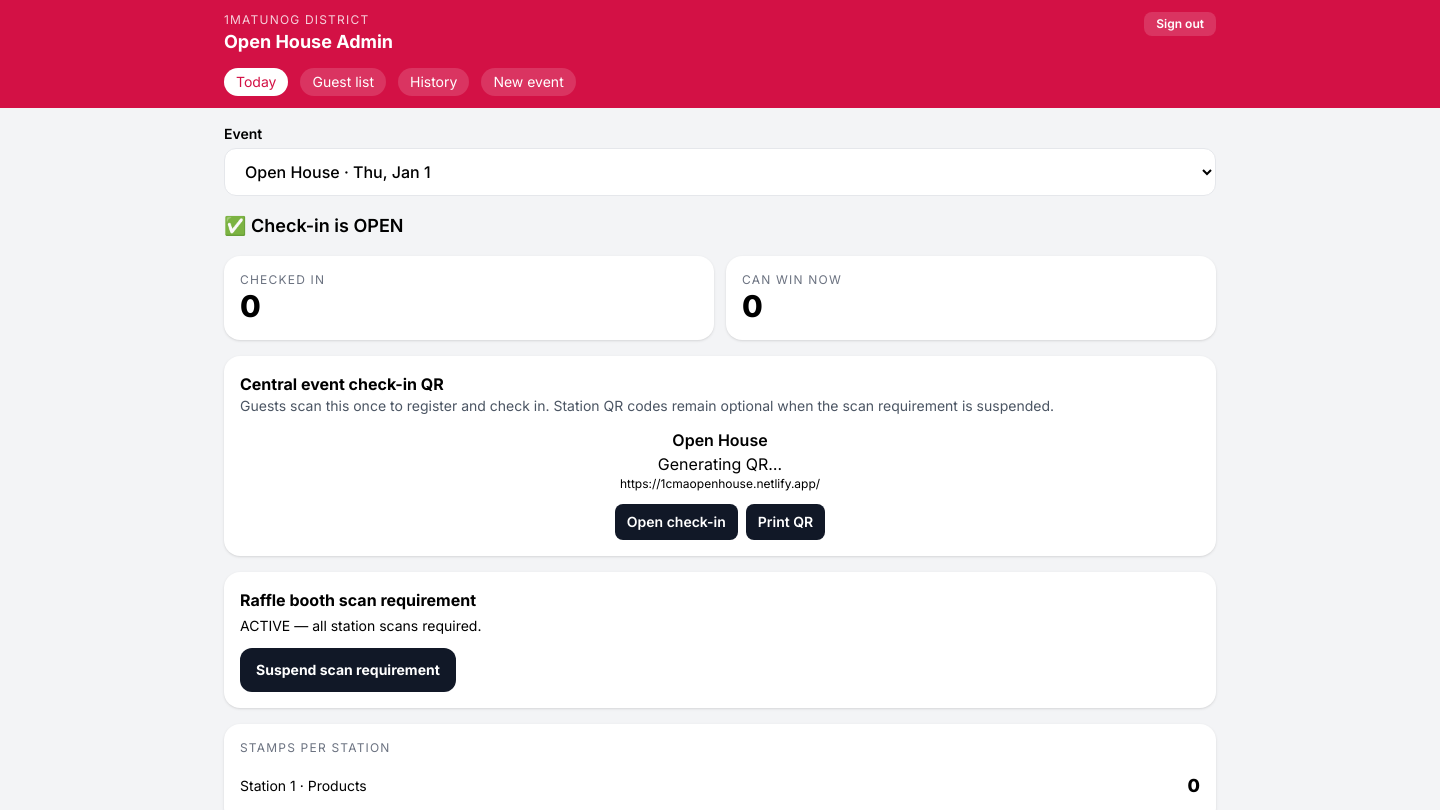
Test case: AdminApp with an empty database › shows guest-list and history empty states when the event has no rows
Click the button "Guest list" at x=343, y=82, box [300, 68, 386, 96]
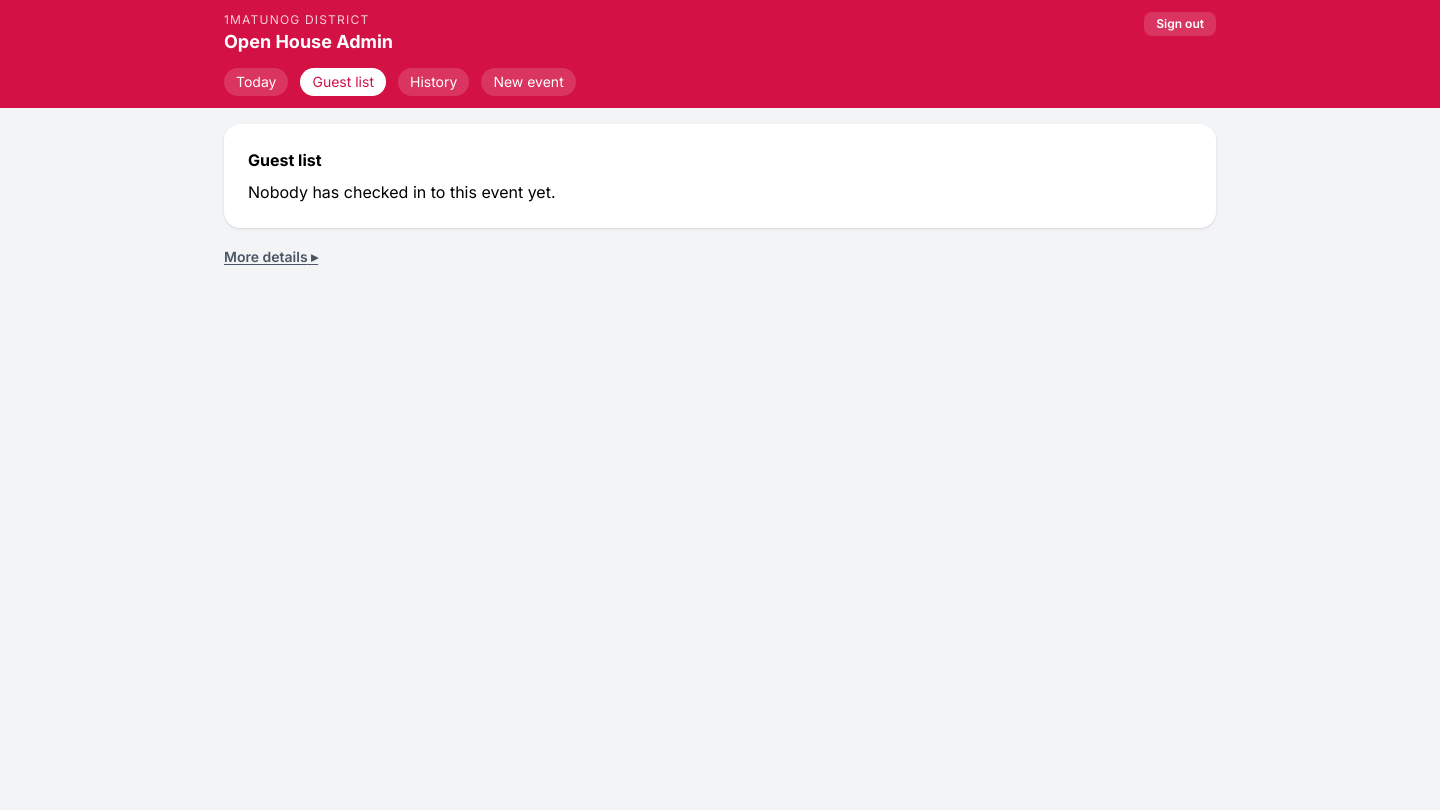
Now the text "Nobody has checked in to this event yet." is shown, box [248, 182, 556, 202]
Click the button "History" at x=434, y=82, box [398, 68, 469, 96]
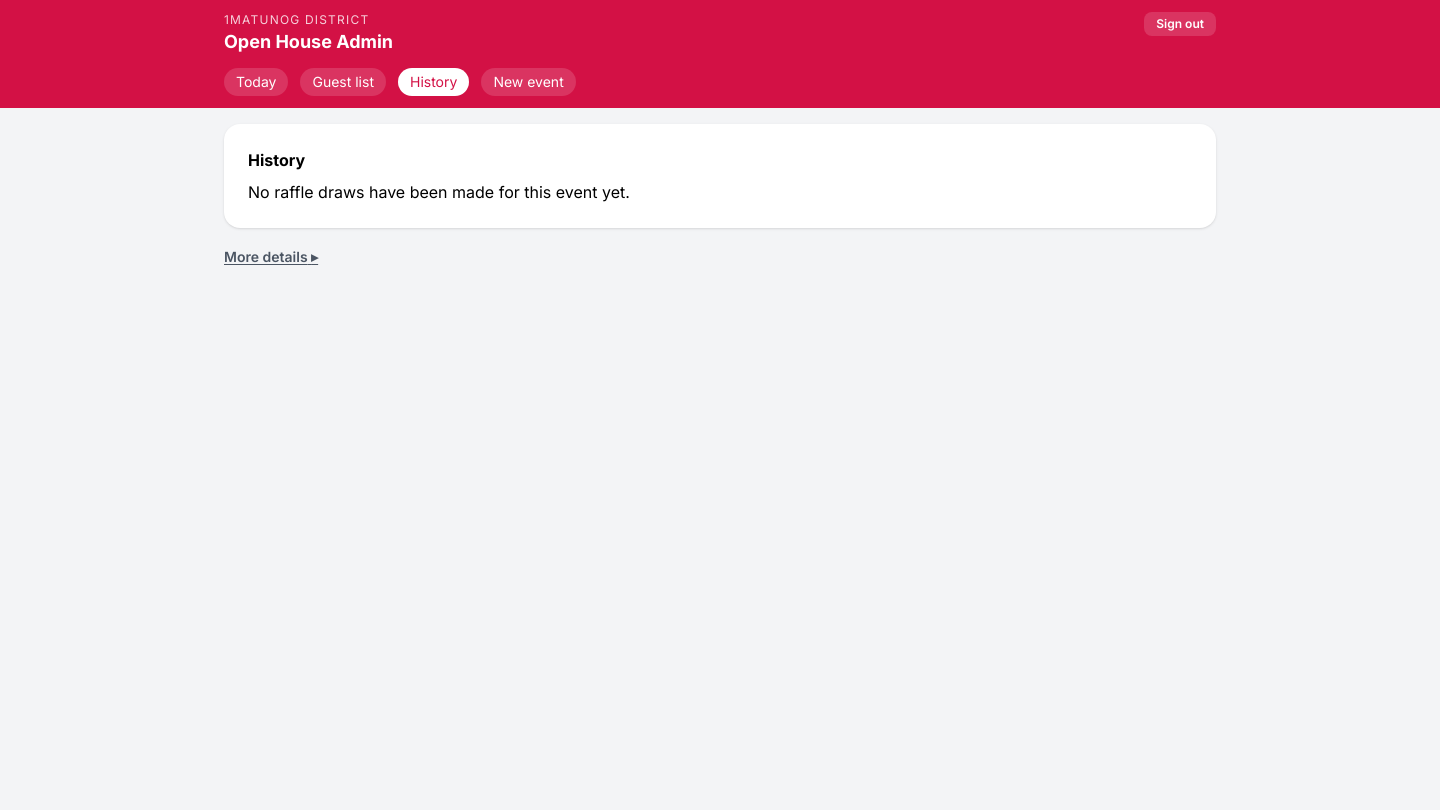
Now the text "No raffle draws have been made for this event yet." is shown, box [248, 182, 630, 202]
